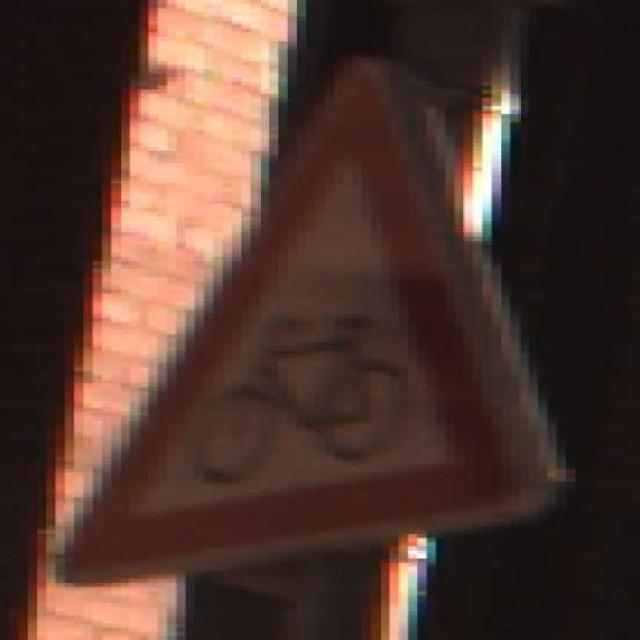CYCLE ROUTE AHEAD WARNING: (46, 16, 557, 596)
